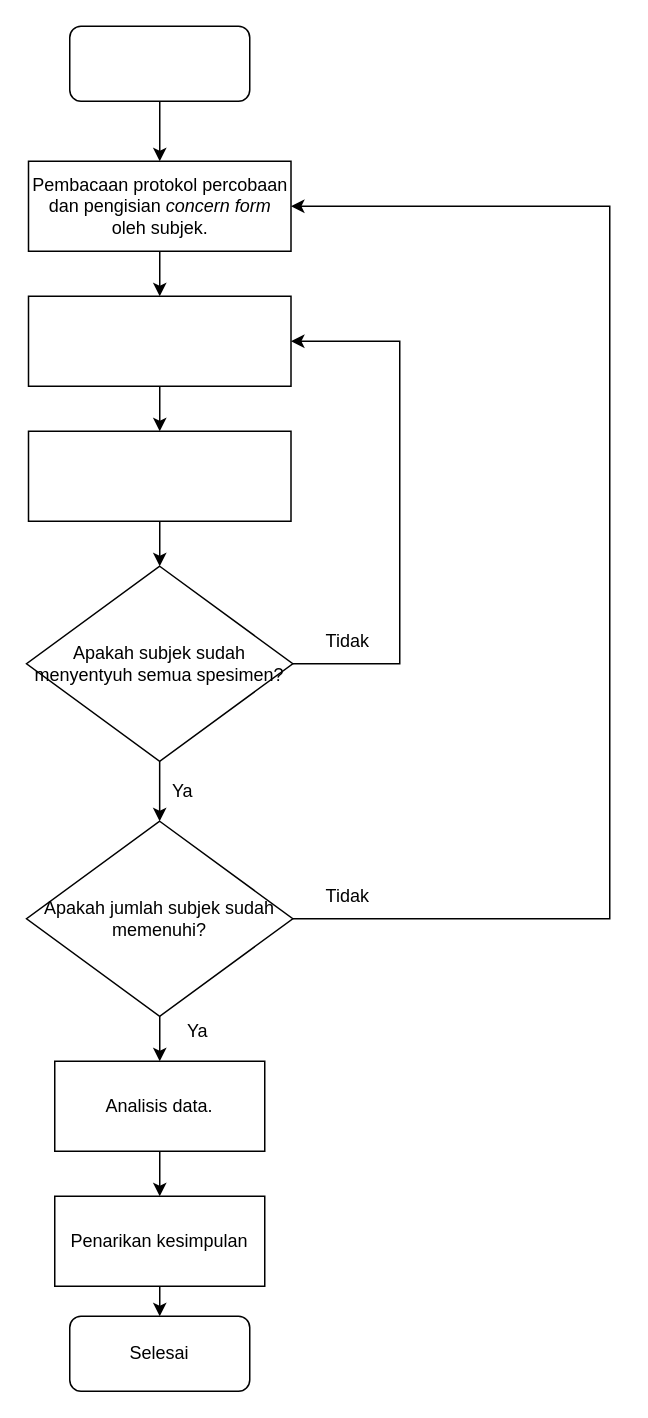
This 648x1418 diagram has some shape labels left out. The shapes that lost their labels are listed below. From the top down, each one's centre as x and y in pixels, then its label:
At [159,63]: "Mulai".
At [159,340]: "Subjek diminta untuk menyentuh spesimen menggunakan jari manis.".
At [159,475]: "Subjek diminta untuk melaporkan kesan apa saja yang dirasakan.".
